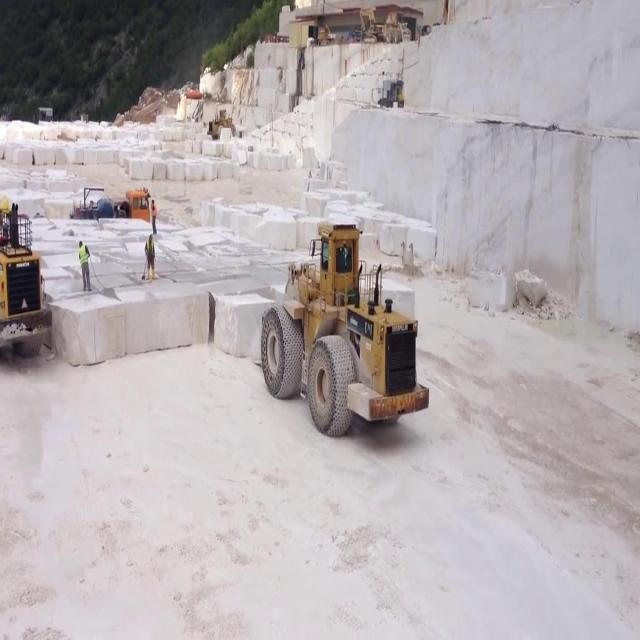buldozerpayloadergrader: (260, 218, 430, 438)
dump_truck: (67, 185, 152, 219)
